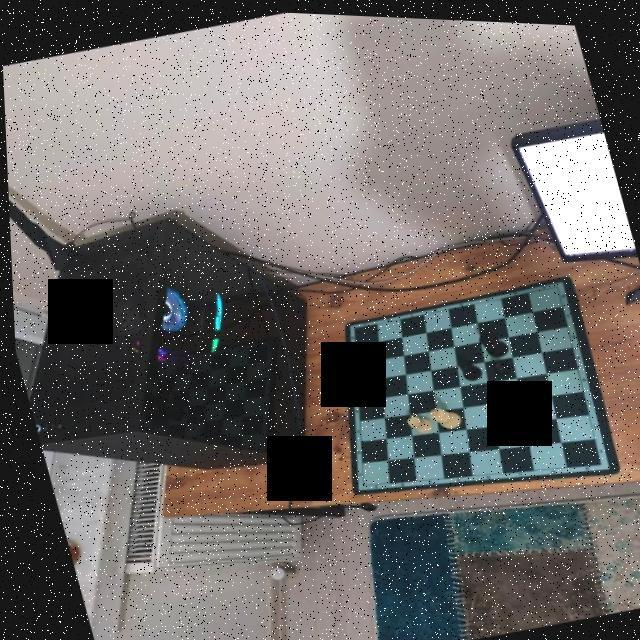chess-table-corners: (340, 318, 360, 334), (546, 276, 560, 288), (590, 453, 602, 465), (352, 475, 364, 487)
